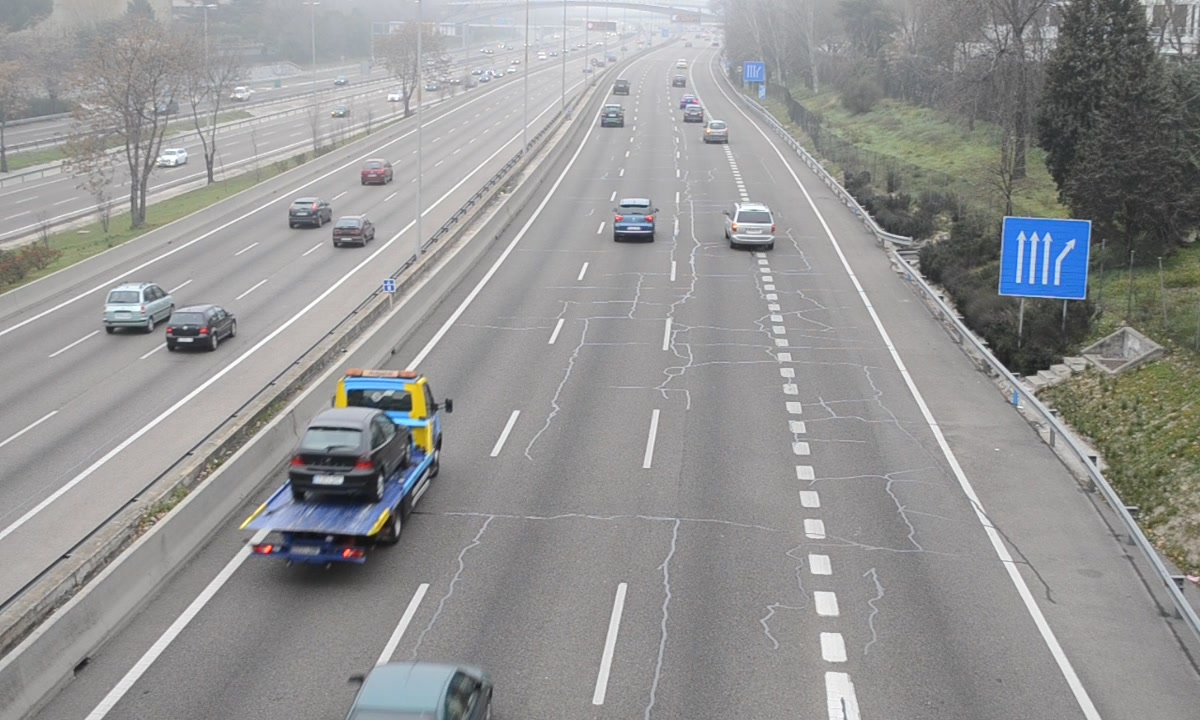car: (729, 201, 776, 249), (613, 196, 654, 239), (703, 117, 731, 143), (600, 102, 623, 127)
small-truck: (238, 368, 444, 558)
